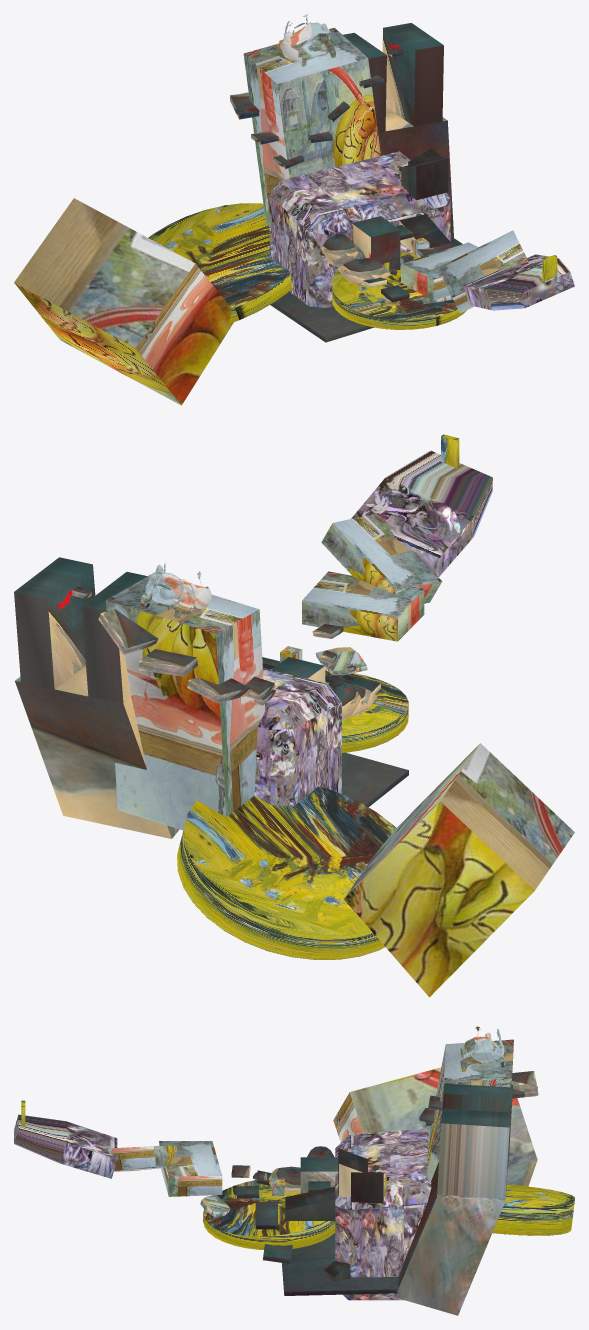
File: level_1.gltf
3 renders of one model, top to bottom at view 1: azimuth 30°, elevation 25°; view 2: azimuth 150°, elevation 25°; view 3: azimuth 270°, elevation 25°, orthographic. The views are drawn at different scales.
Parts seen in each view (by area): view 1: Cube.019, Cube.002, Cube.001, Cylinder.001, Cube.014, Cylinder, Cube.040, Cube.039, Cube.011, Cube.012, Cube.038, Cube.016 (+7 smaller); view 2: Cube.019, Cylinder.001, Cube.002, Cube.011, Cube.001, Cube.040, Cube.014, Cube.038, Cube.039, Cube.013, Cylinder, Cube.012 (+7 smaller); view 3: Cube.001, Cube.011, Cube.019, Cube.014, Cylinder, Cube.040, Cube.012, Cylinder.001, Cube.002, Cube.038, Cube.013, Cube.009 (+11 smaller).
Boxes of the visible parts, bbox=[...] form: Cube.019: bbox=[14, 198, 233, 405]; Cube.002: bbox=[243, 27, 380, 226]; Cube.001: bbox=[269, 151, 450, 307]; Cylinder.001: bbox=[148, 203, 292, 323]; Cube.014: bbox=[382, 23, 443, 126]; Cylinder: bbox=[332, 252, 466, 329]; Cube.040: bbox=[463, 254, 574, 310]; Cube.039: bbox=[437, 230, 528, 313]; Cube.011: bbox=[378, 107, 453, 238]; Cube.012: bbox=[270, 238, 462, 342]; Cube.038: bbox=[401, 242, 478, 300]; Cube.016: bbox=[351, 216, 400, 263]; Cube.019: bbox=[344, 743, 574, 997]; Cylinder.001: bbox=[177, 786, 395, 959]; Cube.002: bbox=[106, 577, 265, 830]; Cube.011: bbox=[15, 665, 179, 838]; Cube.001: bbox=[254, 668, 341, 806]; Cube.040: bbox=[351, 450, 492, 576]; Cube.014: bbox=[14, 557, 95, 689]; Cube.038: bbox=[302, 571, 424, 641]; Cube.039: bbox=[321, 513, 442, 603]; Cube.013: bbox=[81, 572, 147, 703]; Cylinder: bbox=[325, 670, 408, 752]; Cube.012: bbox=[342, 753, 408, 807]; Cube.001: bbox=[335, 1128, 431, 1300]; Cube.011: bbox=[394, 1162, 507, 1315]; Cube.019: bbox=[333, 1067, 537, 1186]; Cube.014: bbox=[437, 1108, 510, 1198]; Cylinder: bbox=[203, 1180, 335, 1249]; Cube.040: bbox=[14, 1114, 117, 1178]; Cube.012: bbox=[282, 1233, 398, 1295]; Cylinder.001: bbox=[492, 1184, 574, 1235]; Cube.002: bbox=[426, 1039, 513, 1180]; Cube.038: bbox=[159, 1141, 222, 1196]; Cube.013: bbox=[442, 1078, 512, 1168]; Cube.009: bbox=[285, 1187, 335, 1220].
Bounding box in the file's own units: 228 × 158 × 272.
Materials: 4 (4 with a texture image).
